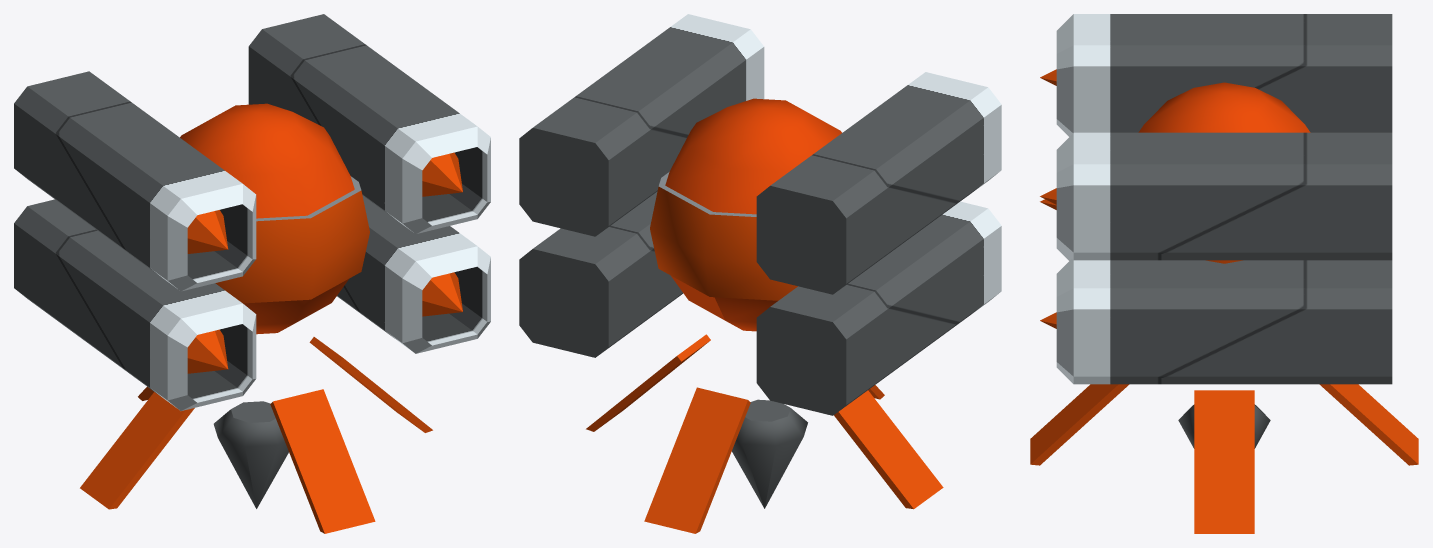
File: SAM.fbx
3 renders of one model, left to right at view 1: azimuth 30°, elevation 25°; view 2: azimuth 150°, elevation 25°; view 3: azimuth 270°, elevation 25°, orthographic. The views are drawn at different scales.
Visible parts, largest first — view 1: pCube1 (×4), pSphere1, pCube3 (×3), pasted__pCone2 (×4), pCone1; view 2: pCube1 (×4), pSphere1, pCube3 (×3), pCone1; view 3: pCube1 (×3), pCube3 (×3), pSphere1, pCone1.
Boxes of the visible parts, left/top/right/bottom form: pCube1 (×4): left=14, top=14, right=490, bottom=410; pSphere1: left=180, top=103, right=369, bottom=334; pCube3 (×3): left=80, top=337, right=432, bottom=533; pasted__pCone2 (×4): left=187, top=152, right=462, bottom=373; pCone1: left=213, top=401, right=288, bottom=508; pCube1 (×4): left=519, top=14, right=1001, bottom=415; pSphere1: left=650, top=98, right=841, bottom=331; pCube3 (×3): left=586, top=334, right=943, bottom=533; pCone1: left=732, top=399, right=807, bottom=508; pCube1 (×3): left=1056, top=14, right=1392, bottom=384; pCube3 (×3): left=1030, top=384, right=1418, bottom=533; pSphere1: left=1138, top=82, right=1310, bottom=263; pCone1: left=1178, top=404, right=1270, bottom=448.
Bounding box in the file's own units: 3.67 × 4.32 × 3.67.
